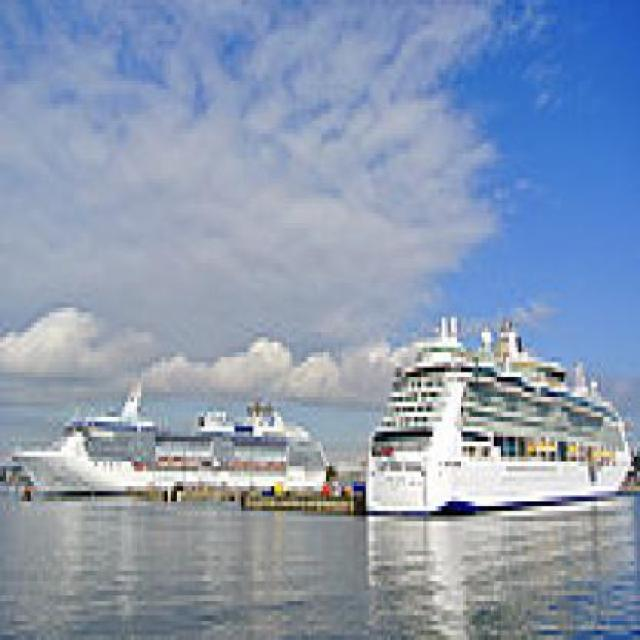cruise: (370, 309, 633, 532), (13, 373, 349, 521)
